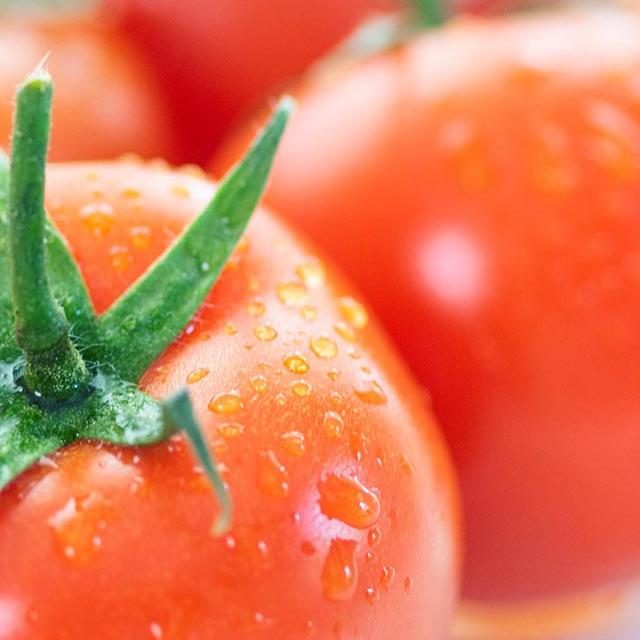tomato: (266, 4, 640, 602), (0, 206, 460, 640), (107, 0, 398, 156), (47, 160, 214, 308)
